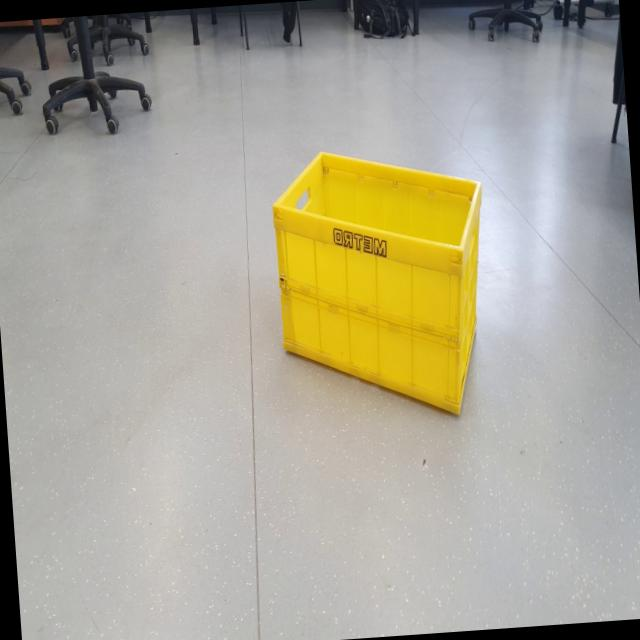box: (265, 132, 502, 434)
